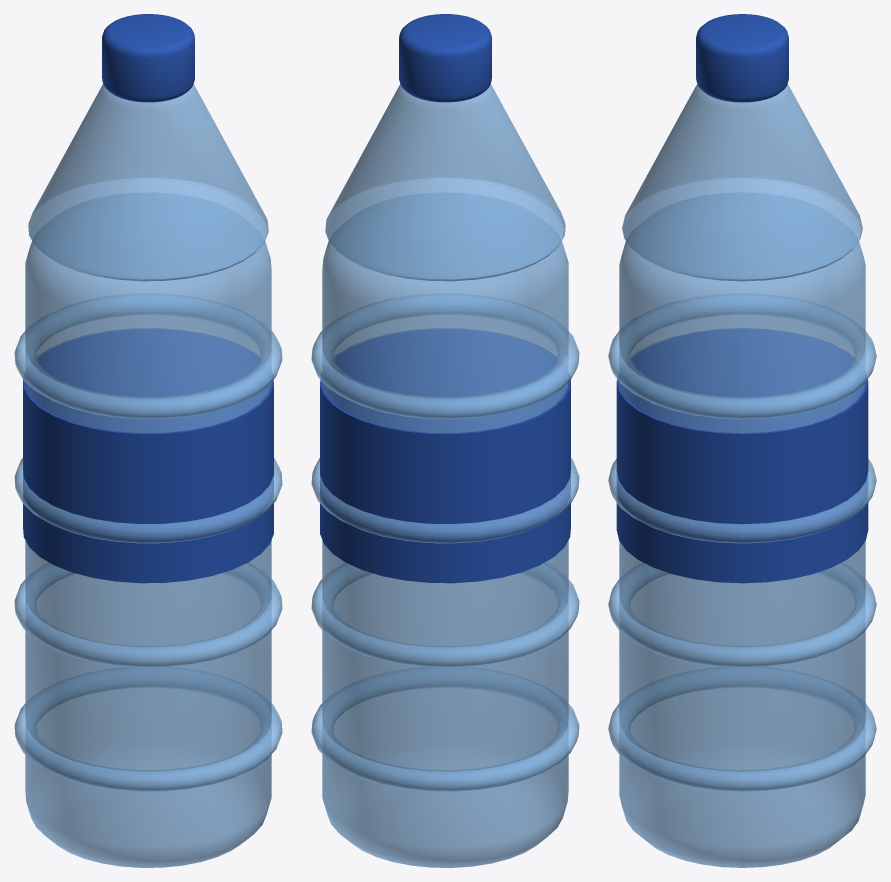
The model's file is mineral_water.glb.
3 renders of one model, left to right at view 1: azimuth 30°, elevation 25°; view 2: azimuth 150°, elevation 25°; view 3: azimuth 270°, elevation 25°, orthographic.
Parts seen in each view (by area): view 1: mineral_water; view 2: mineral_water; view 3: mineral_water.
Boxes of the visible parts, x1,y1,x2,y2 form: mineral_water: (14,14,282,867); mineral_water: (311,14,579,867); mineral_water: (608,14,876,867).
Size of the model in its own units: 0.098 by 0.321 by 0.098.
